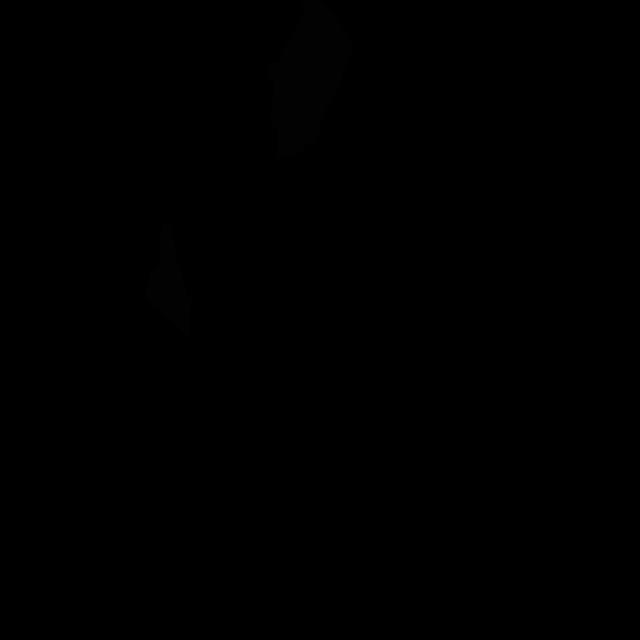cardboard: (268, 0, 353, 160), (144, 223, 192, 339)
